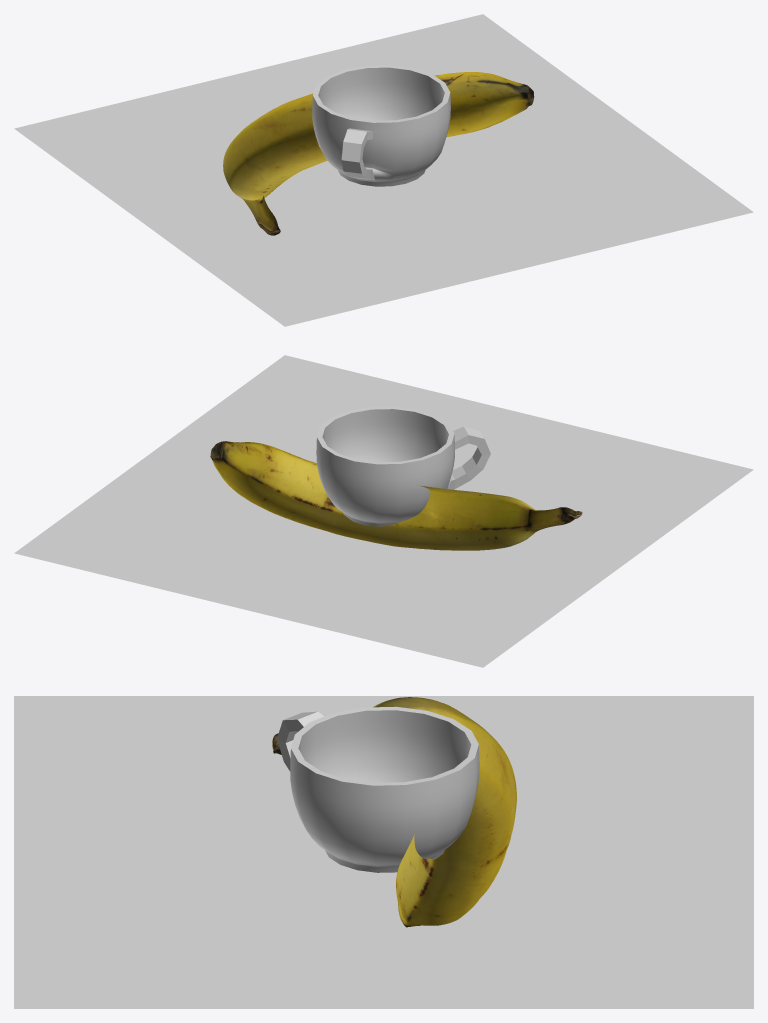
3 renders of one model, top to bottom at view 1: azimuth 30°, elevation 25°; view 2: azimuth 150°, elevation 25°; view 3: azimuth 270°, elevation 25°, orthographic. The views are drawn at different scales.
Parts seen in each view (by area): view 1: cup_shadow_catcher, cup_01; view 2: cup_shadow_catcher, cup_01; view 3: cup_shadow_catcher, cup_01.
Part boxes in pixels (x1,y1,x2,y2): cup_shadow_catcher: (14,14,753,326); cup_01: (223,65,534,235); cup_shadow_catcher: (14,355,753,667); cup_01: (210,406,582,550); cup_shadow_catcher: (14,696,753,1008); cup_01: (272,697,516,927).
Size of the model in its own units: 15000 by 2345 by 15000.
Materials: 2 (1 with a texture image).
